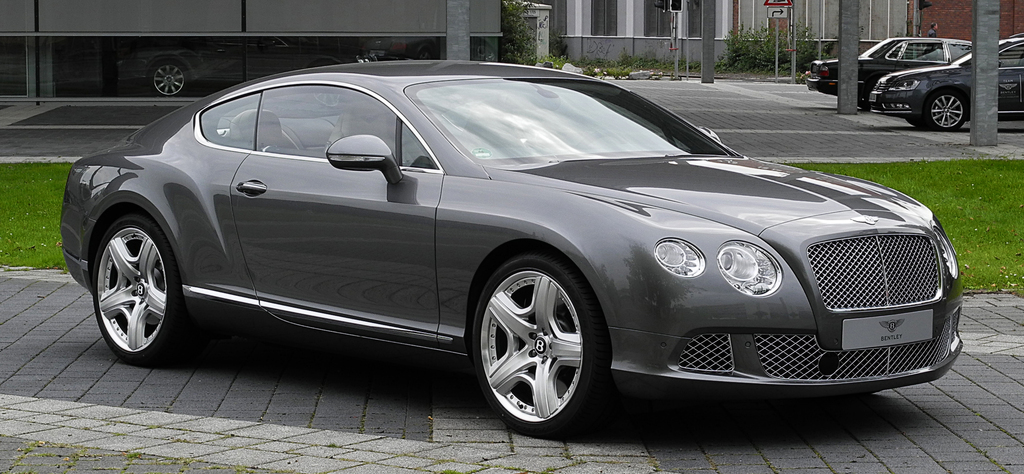Car: (54, 53, 967, 438), (113, 36, 378, 102), (869, 26, 1023, 131), (807, 33, 974, 112)
